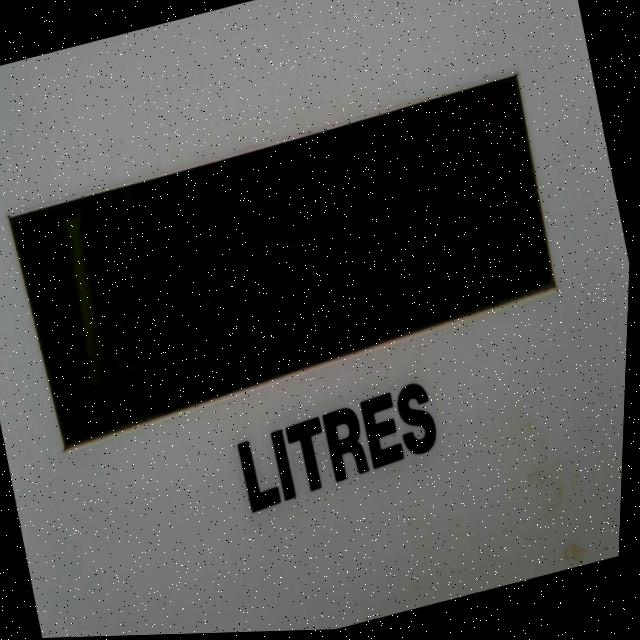.: (364, 298, 382, 329)
0: (347, 118, 445, 310)
1: (454, 90, 525, 280)
2: (188, 168, 295, 363), (116, 203, 212, 387)
3: (282, 145, 372, 331)
